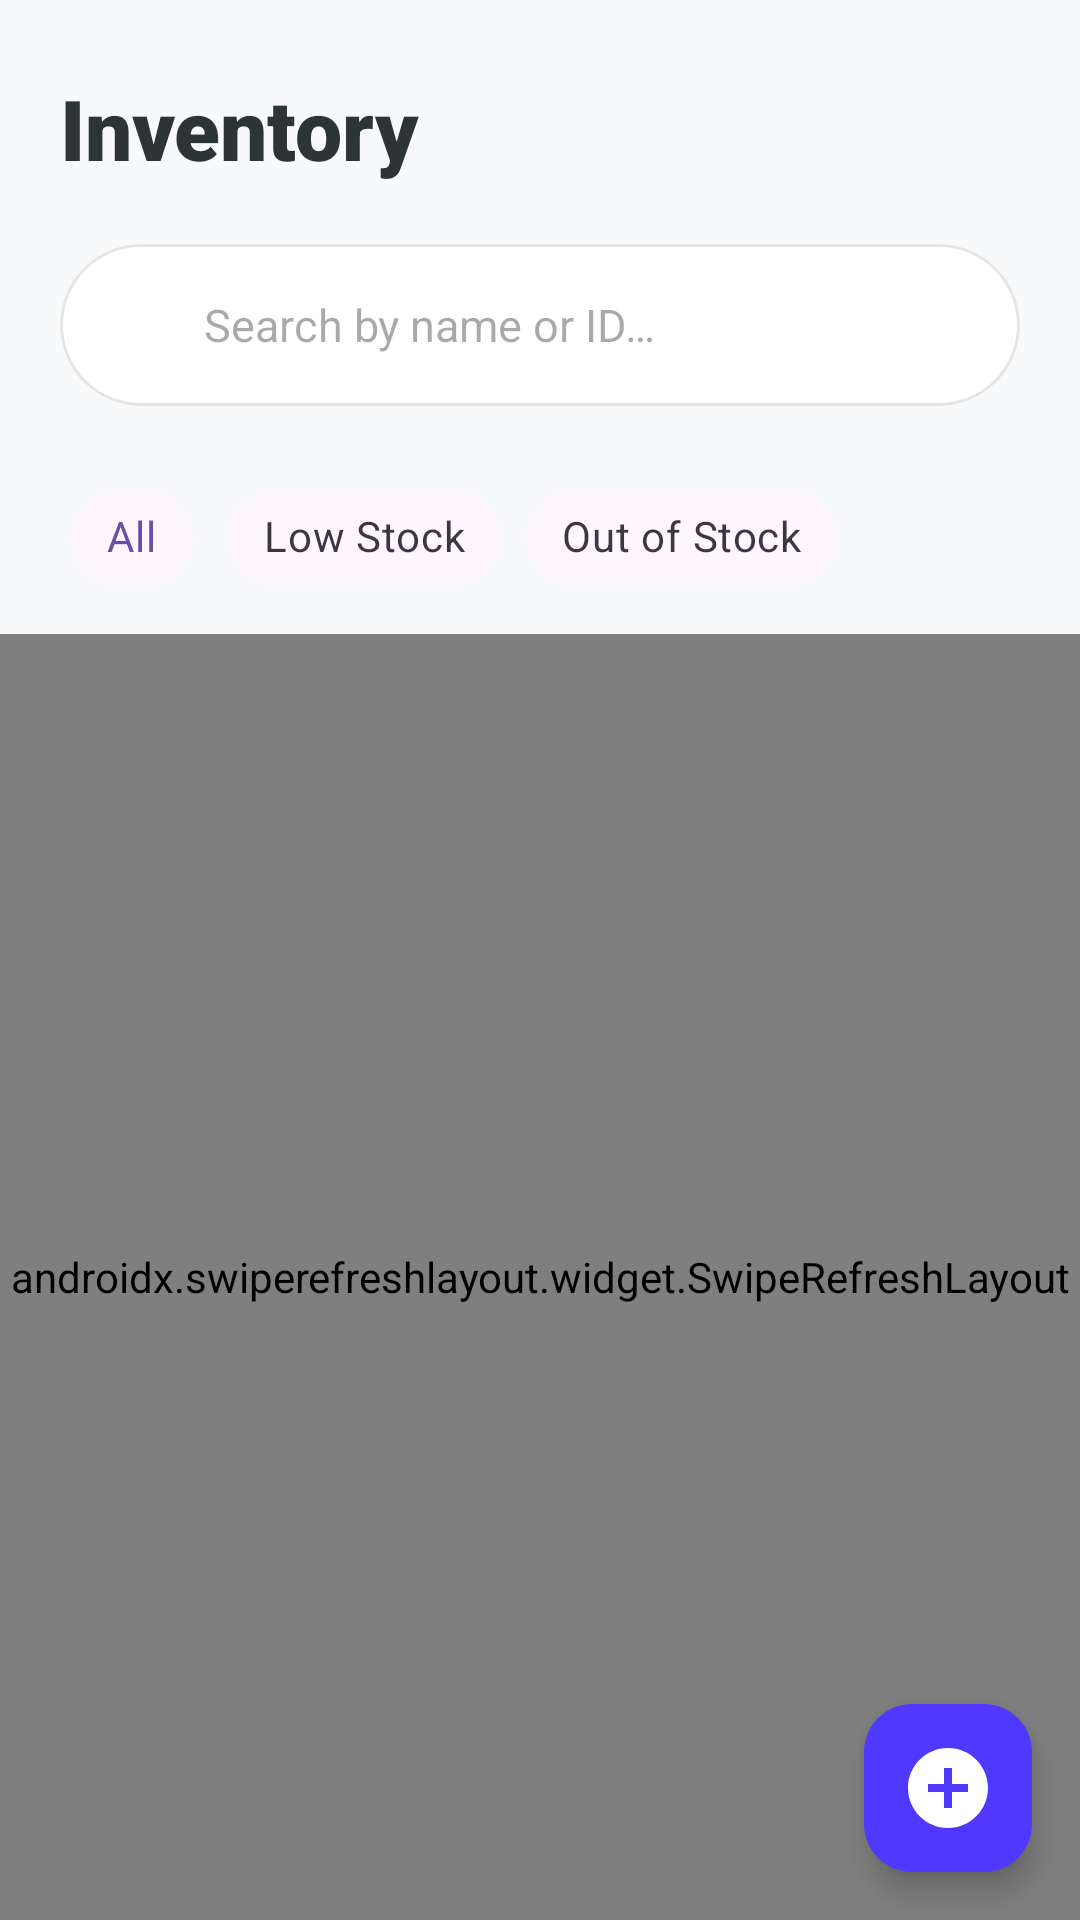

Icons on this 1080px x 1920px Android screen, each with its box as (x1, y1, x2, y2):
Upload New Product: (864, 1704, 1032, 1872)
